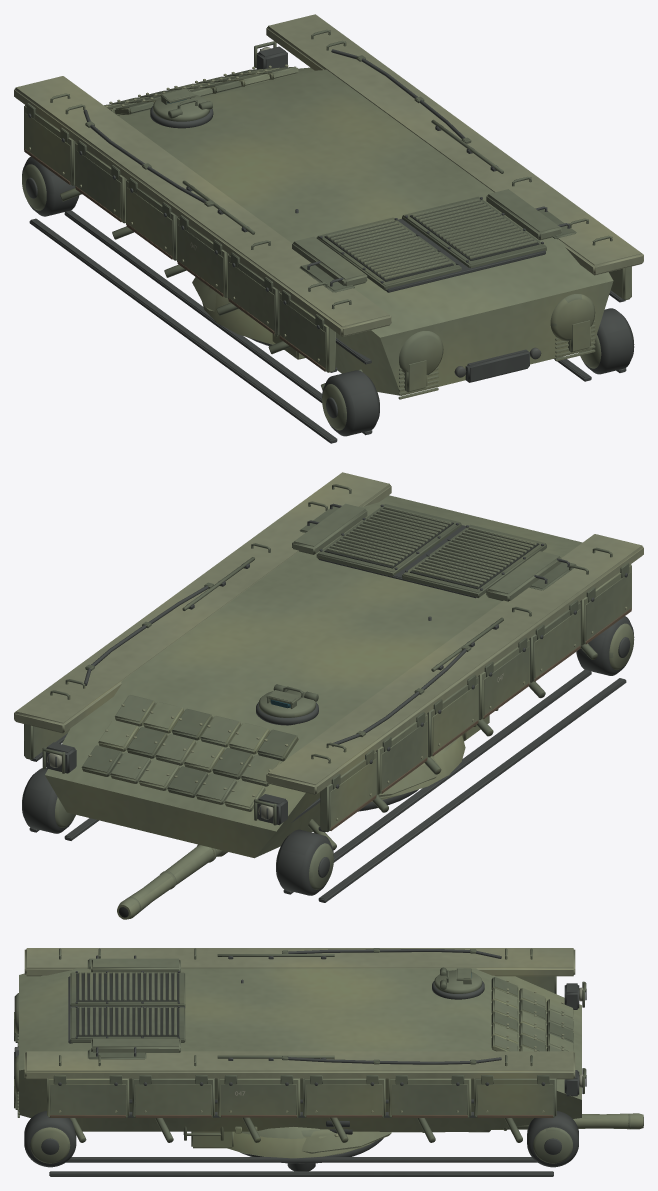
Rendered from rubezh-high.glb.
3 renders of one model, top to bottom at view 1: azimuth 30°, elevation 25°; view 2: azimuth 150°, elevation 25°; view 3: azimuth 270°, elevation 25°, orthographic. The views are drawn at different scales.
Parts seen in each view (by area): view 1: HD_hull, HD_belt, HD_turret, HD_hatch; view 2: HD_hull, HD_belt, HD_cannon, HD_turret, HD_hatch; view 3: HD_hull, HD_belt, HD_turret, HD_hatch, HD_cannon.
Part boxes in pixels (box(x1,y1,x2,y2)): HD_hull: box(14, 14, 643, 399); HD_belt: box(22, 157, 634, 443); HD_turret: box(192, 209, 305, 359); HD_hatch: box(150, 88, 213, 128); HD_hull: box(14, 472, 643, 858); HD_belt: box(22, 616, 634, 902); HD_cannon: box(117, 844, 227, 919); HD_turret: box(358, 616, 498, 811); HD_hatch: box(256, 684, 318, 725); HD_hull: box(14, 948, 586, 1131); HD_belt: box(24, 1099, 578, 1176); HD_turret: box(183, 979, 391, 1163); HD_hatch: box(432, 967, 484, 999); HD_cannon: box(392, 1113, 643, 1132).
Bounding box in the file's own units: 3.63 × 2.31 × 7.64.
Materials: 1 (1 with a texture image).
